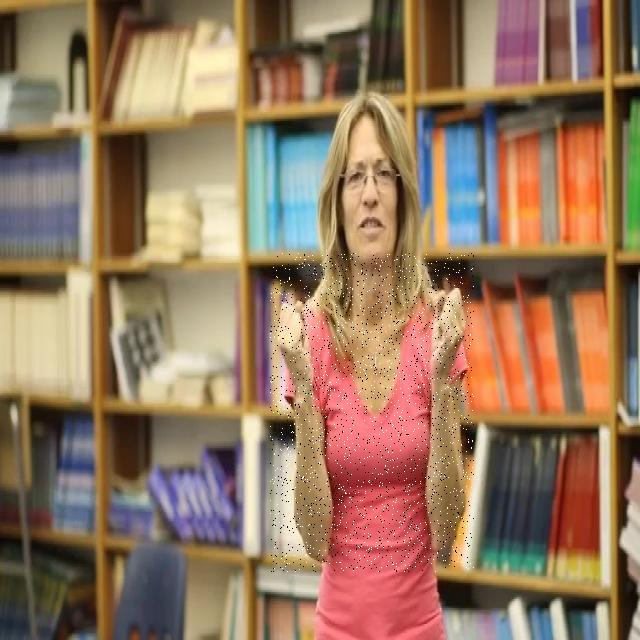cold: (270, 253, 474, 572)
